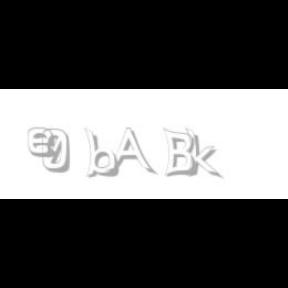0: (42, 128, 74, 174)
A: (106, 128, 154, 176)
B: (162, 128, 196, 178)
b: (84, 128, 122, 178)
e: (28, 128, 60, 158)
k: (185, 128, 223, 180)
